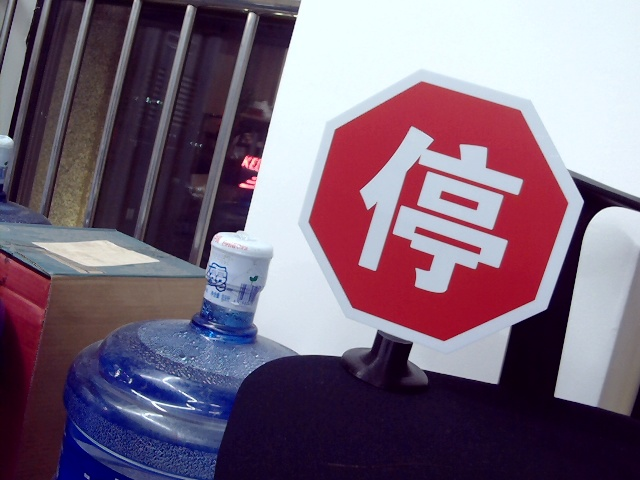stop: (355, 125, 521, 291)
